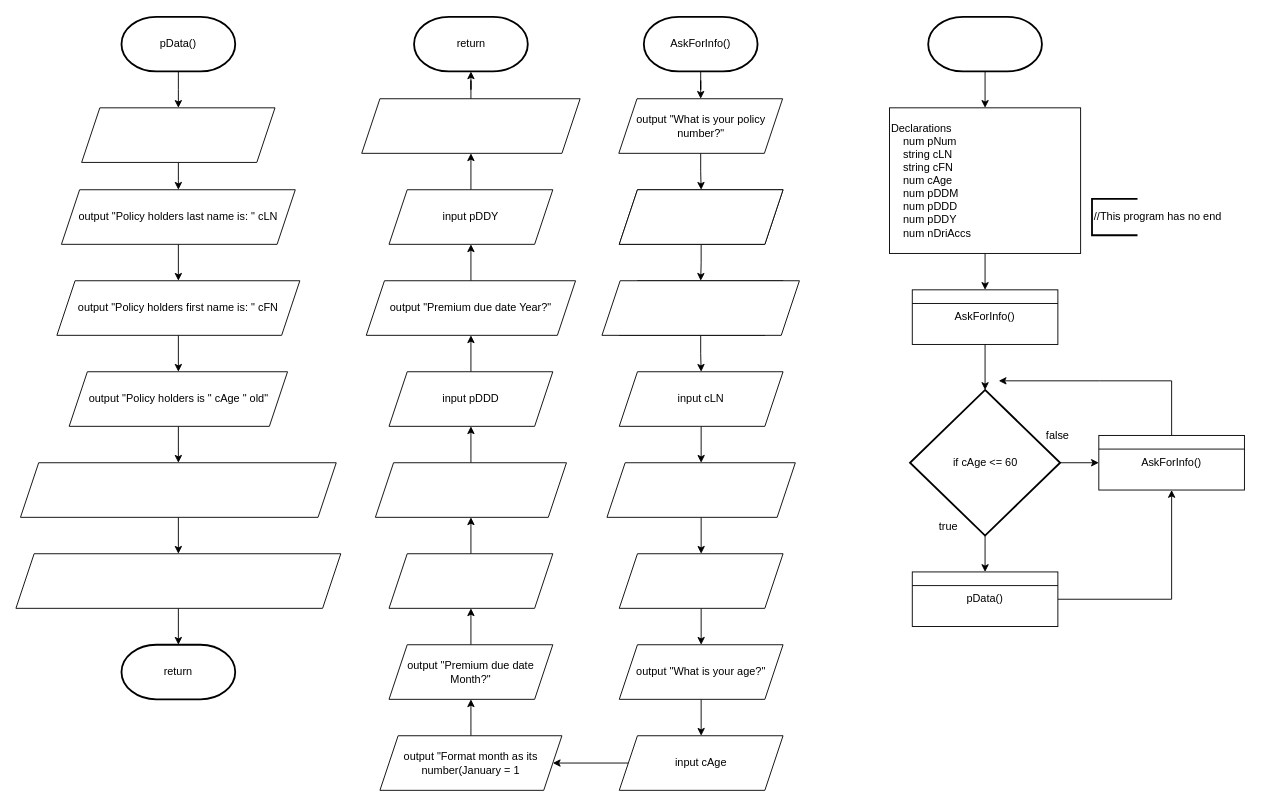
The diagram is 1261 pixels wide and 806 high, and some of its shapes have lost their labels. Here are the shapes that lost their labels. From the top down, the centre of each, then its label:
(984,43): start
(178,134): output "Policy number is: " pNum
(470,125): output "How many driving accidents have you had in the last 3 years?"
(700,216): input pNum
(700,307): output "What is your last name?"
(178,489): output "Policy Due Date is: " pDDM " ," pDDD " ," pDDY
(470,489): output "Premium due date Day?"
(700,489): output "What is your first name?"
(178,580): output "Policy holders has been in " nDriAccs " accidents"
(470,580): input pDDM
(700,580): input cFN
